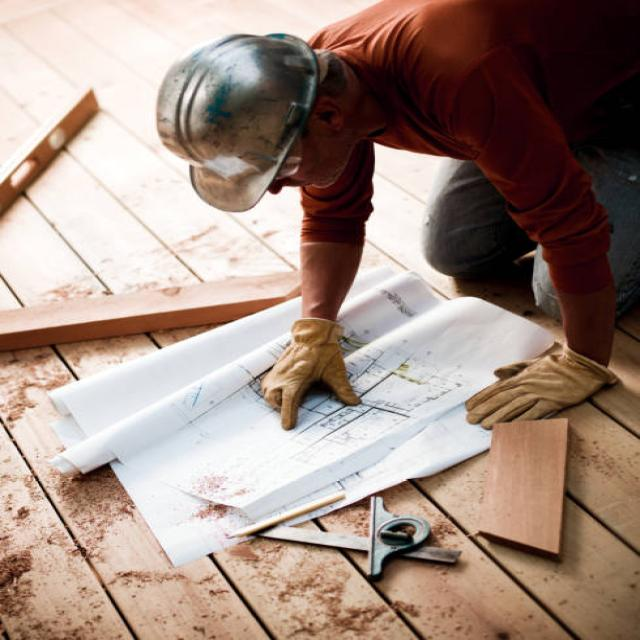gloves: (461, 342, 619, 432), (263, 319, 363, 433)
